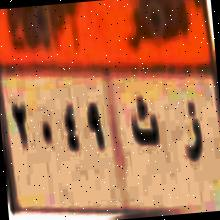0: (41, 115, 56, 157)
2: (10, 96, 32, 160)
4: (62, 100, 81, 158)
9: (86, 100, 108, 162)
thaa: (127, 92, 164, 161)
zay: (180, 98, 206, 177)
